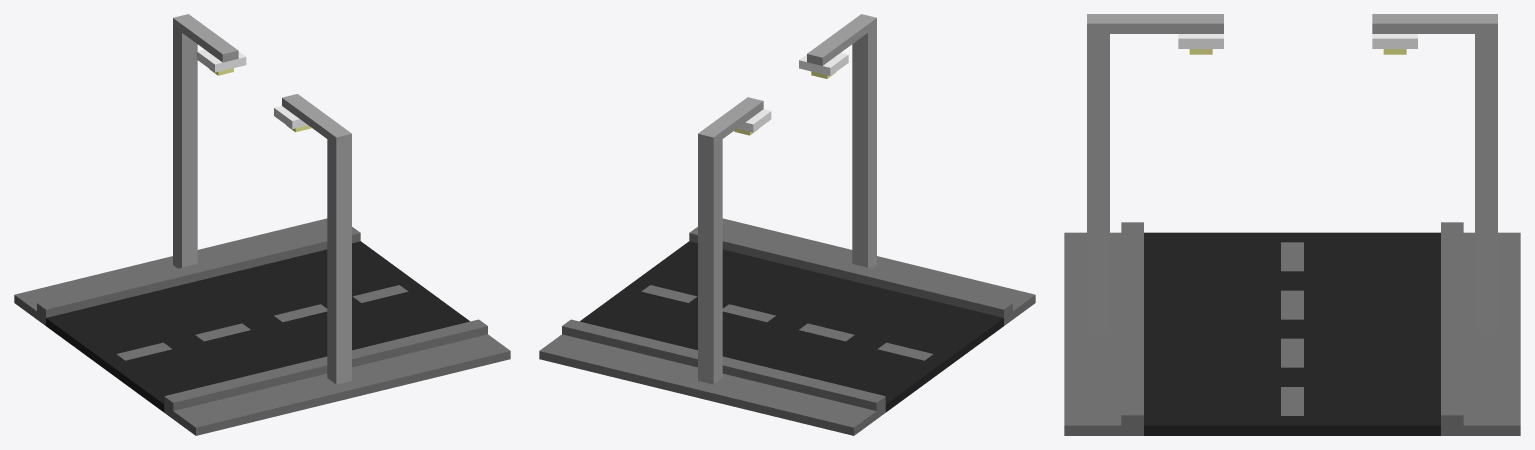
File: road1.obj
The picture shows the model from 3 angles, left to right: view 1: azimuth 30°, elevation 25°; view 2: azimuth 150°, elevation 25°; view 3: azimuth 270°, elevation 25°; orthographic projection. The views are drawn at different scales.
Bounding box in the file's own units: 4 × 3.1 × 4.
Materials: 1 (1 with a texture image).
